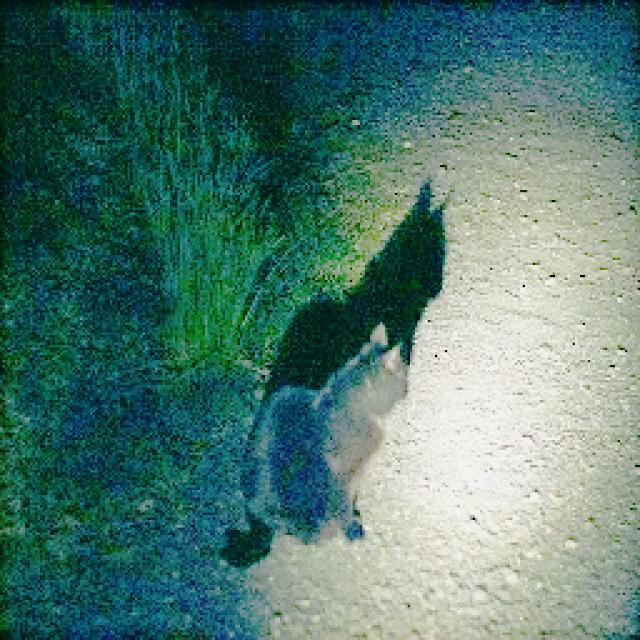cat: (217, 324, 408, 562)
